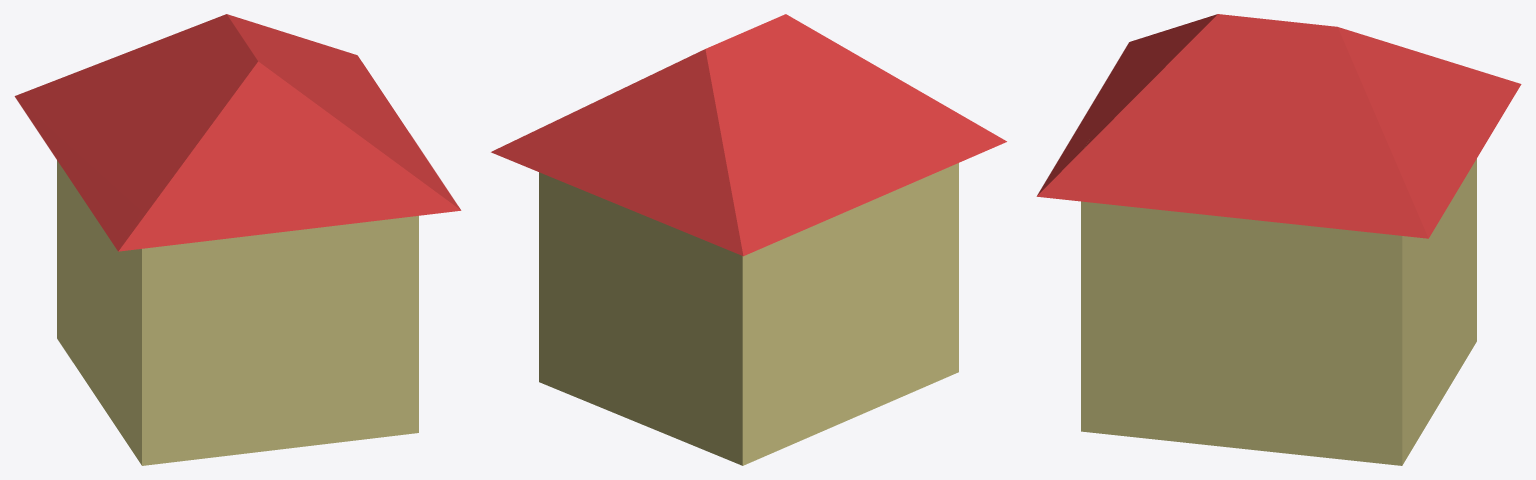
The picture shows the model from 3 angles, left to right: view 1: azimuth 30°, elevation 25°; view 2: azimuth 150°, elevation 25°; view 3: azimuth 270°, elevation 25°; orthographic projection. The views are drawn at different scales.
Visible parts, largest first — view 1: group_5, group_3, group_4; view 2: group_5, group_3, group_4; view 3: group_5, group_3, group_4.
Part boxes in pixels (x1,y1,x2,y2): group_5: (57, 160, 418, 465); group_3: (15, 14, 460, 251); group_4: (15, 44, 460, 251); group_5: (539, 163, 958, 465); group_3: (491, 14, 1005, 256); group_4: (492, 116, 1006, 255); group_5: (1081, 159, 1476, 465); group_3: (1036, 14, 1521, 238); group_4: (1037, 99, 1428, 237).
Size of the model in its own units: 12.71 by 13.24 by 11.09.
